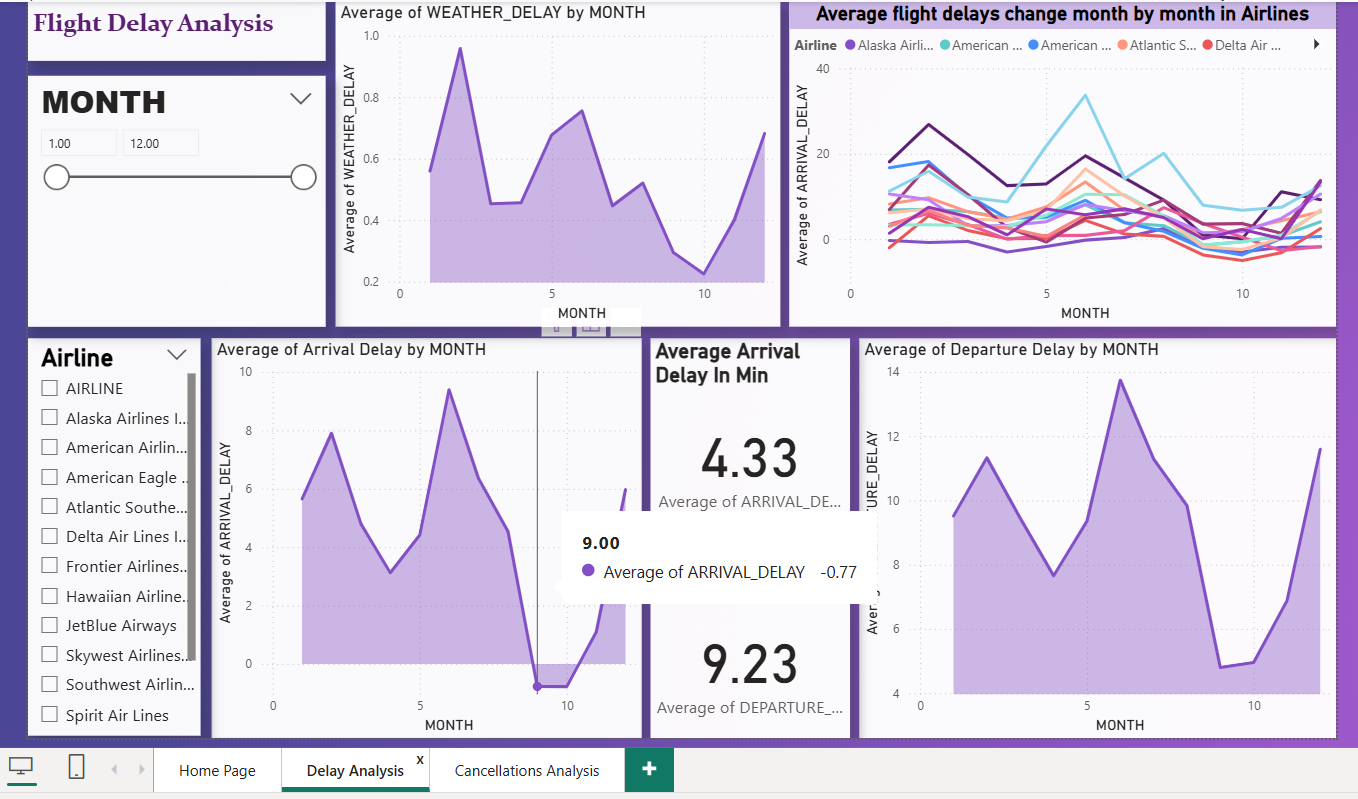

What the dashboard file says about the page in this screenshot:
{"tool":"powerbi","page":{"name":"Delay Analysis","canvas":[1280,720],"ordinal":1},"visuals":[{"type":"areaChart","title":"Average of Arrival Delay by MONTH","fields":{"Category":["flights.MONTH"],"Y":["Avg(flights.ARRIVAL_DELAY)"]},"box":[180,328.8,420,391.2],"z":0},{"type":"areaChart","title":"Average of Departure Delay by MONTH","fields":{"Category":["flights.MONTH"],"Y":["Avg(flights.DEPARTURE_DELAY)"]},"box":[813.8,328.8,466.2,391.2],"z":1000},{"type":"card","title":"Average Arrival Delay In Min","fields":{"Values":["Avg(flights.ARRIVAL_DELAY)"]},"box":[608.8,328.8,195,195],"z":2000},{"type":"card","title":"Average Departure Delay In Min","fields":{"Values":["Avg(flights.DEPARTURE_DELAY)"]},"box":[608.8,535,195,185],"z":3000},{"type":"textbox","box":[0,0,291,57.5],"z":4000},{"type":"areaChart","fields":{"Category":["flights.MONTH"],"Y":["Avg(flights.WEATHER_DELAY)"]},"box":[301.2,0,435,317.5],"z":5000},{"type":"slicer","fields":{"Values":["airlines.Airline"]},"box":[0,328.9,168.8,388.9],"z":6000},{"type":"lineChart","title":"Average flight delays change month by month in Airlines","fields":{"Category":["flights.MONTH"],"Y":["Avg(flights.ARRIVAL_DELAY)"],"Series":["airlines.Airline"]},"box":[745,0,535,317.5],"z":7000},{"type":"slicer","fields":{"Values":["flights.MONTH"]},"box":[0,72.1,291,245.8],"z":8000}]}

Visuals, with their boxes in screenshot pixels (x1, y1, x2, y2):
"Average of Arrival Delay by MONTH" areaChart: box(217, 339, 641, 734)
"Average of Departure Delay by MONTH" areaChart: box(857, 339, 1327, 734)
"Average Arrival Delay In Min" card: box(650, 339, 847, 536)
"Average Departure Delay In Min" card: box(650, 547, 847, 734)
textbox: box(35, 7, 329, 65)
areaChart - flights.MONTH x Avg(flights.WEATHER_DELAY): box(339, 7, 778, 327)
slicer - airlines.Airline: box(35, 339, 206, 731)
"Average flight delays change month by month in Airlines" lineChart: box(787, 7, 1327, 327)
slicer - flights.MONTH: box(35, 80, 329, 328)
